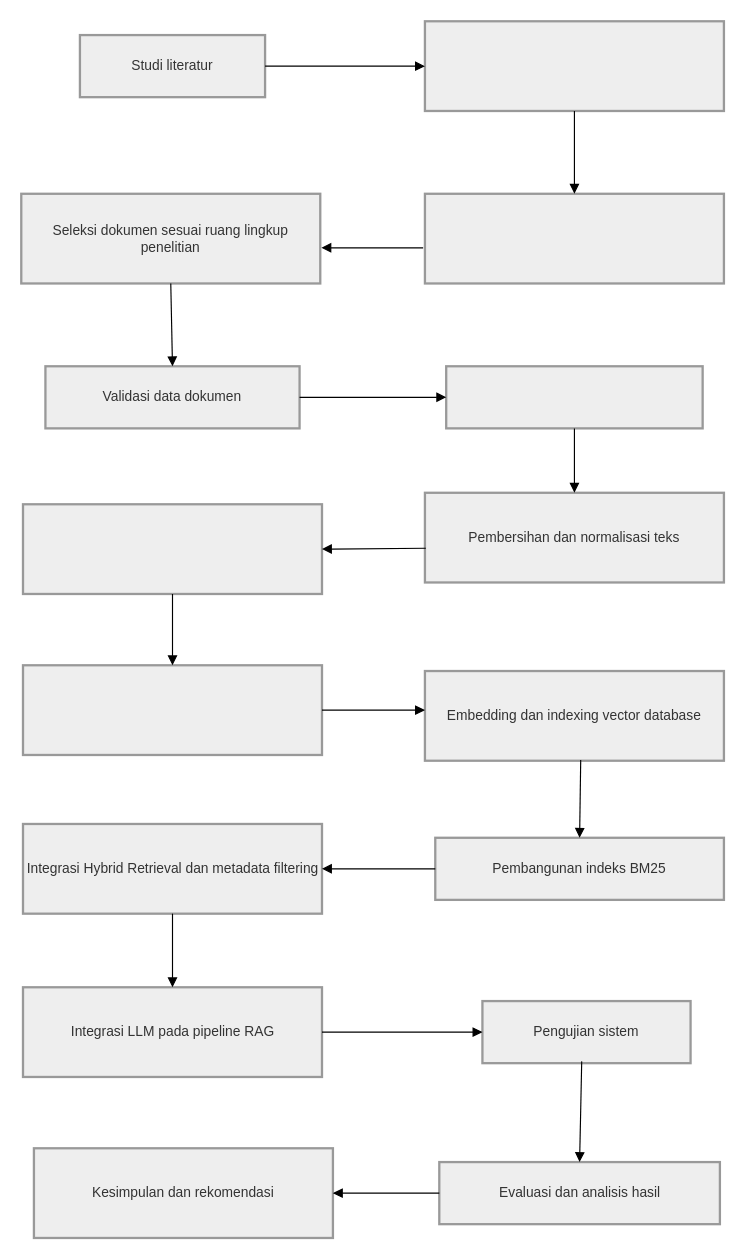
Some shapes in this 744 by 1258 pixel diagram are drawn without their labels. Each missing label, with the box of its shape:
Chunking per pasal atau ayat: (21, 503, 323, 595)
Ekstraksi teks dari PDF: (444, 365, 703, 429)
Pengumpulan dokumen regulasi: (423, 192, 724, 284)
Penyusunan metadata dokumen: (21, 664, 323, 756)
Perumusan masalah dan tujuan penelitian: (423, 20, 724, 112)
